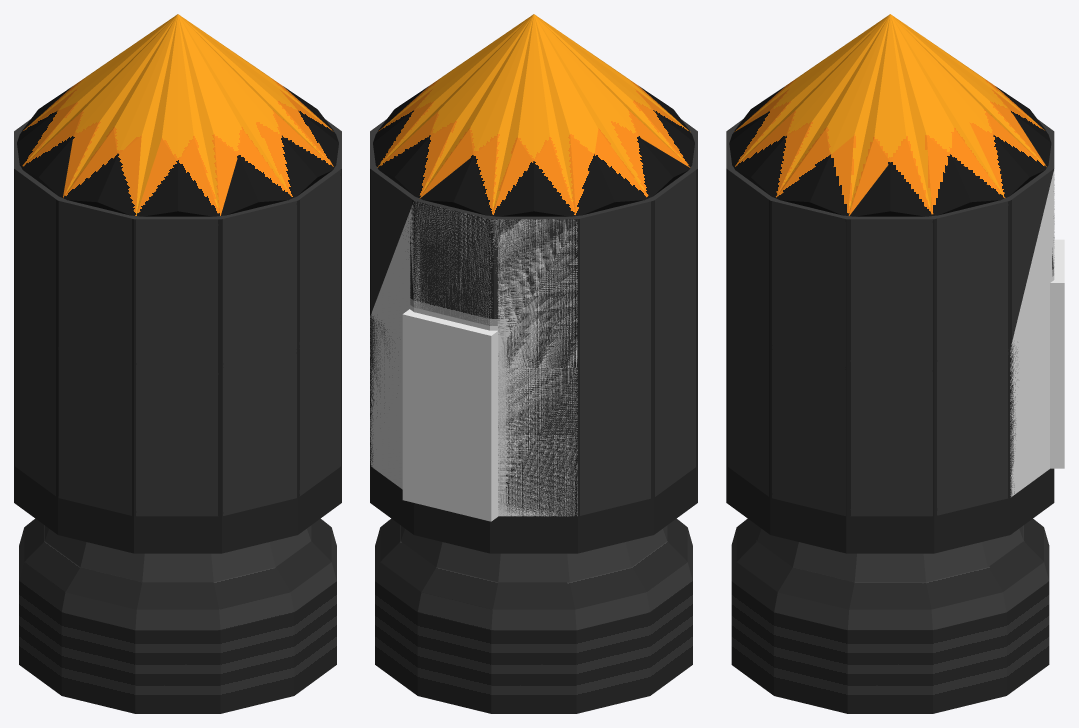
Rendered from EscapeShip (1).gltf.
3 views of the same model, side by side, from view 1: azimuth 30°, elevation 25°; view 2: azimuth 150°, elevation 25°; view 3: azimuth 270°, elevation 25° (orthographic).
Visible parts, largest first — view 1: engine, upperWalls, lowerWalls, cone; view 2: engine, upperWalls, cone, tube (×2), lowerWalls, cuboid; view 3: engine, upperWalls, lowerWalls, cone, tube (×2), cuboid.
Part boxes in pixels (x1=…): engine: x1=14, y1=466, x2=341, y2=713; upperWalls: x1=14, y1=119, x2=341, y2=367; lowerWalls: x1=14, y1=317, x2=341, y2=516; cone: x1=17, y1=14, x2=338, y2=216; engine: x1=370, y1=466, x2=697, y2=713; upperWalls: x1=370, y1=119, x2=697, y2=367; cone: x1=373, y1=14, x2=694, y2=216; tube (×2): x1=370, y1=201, x2=577, y2=516; lowerWalls: x1=370, y1=317, x2=697, y2=516; cuboid: x1=402, y1=309, x2=498, y2=521; engine: x1=726, y1=466, x2=1054, y2=713; upperWalls: x1=726, y1=119, x2=1054, y2=367; lowerWalls: x1=726, y1=317, x2=1017, y2=516; cone: x1=729, y1=14, x2=1051, y2=216; tube (×2): x1=1010, y1=169, x2=1054, y2=496; cuboid: x1=1050, y1=239, x2=1064, y2=468.
Size of the model in its own units: 4 by 8.52 by 4.12.
Materials: 9 (7 with a texture image).
